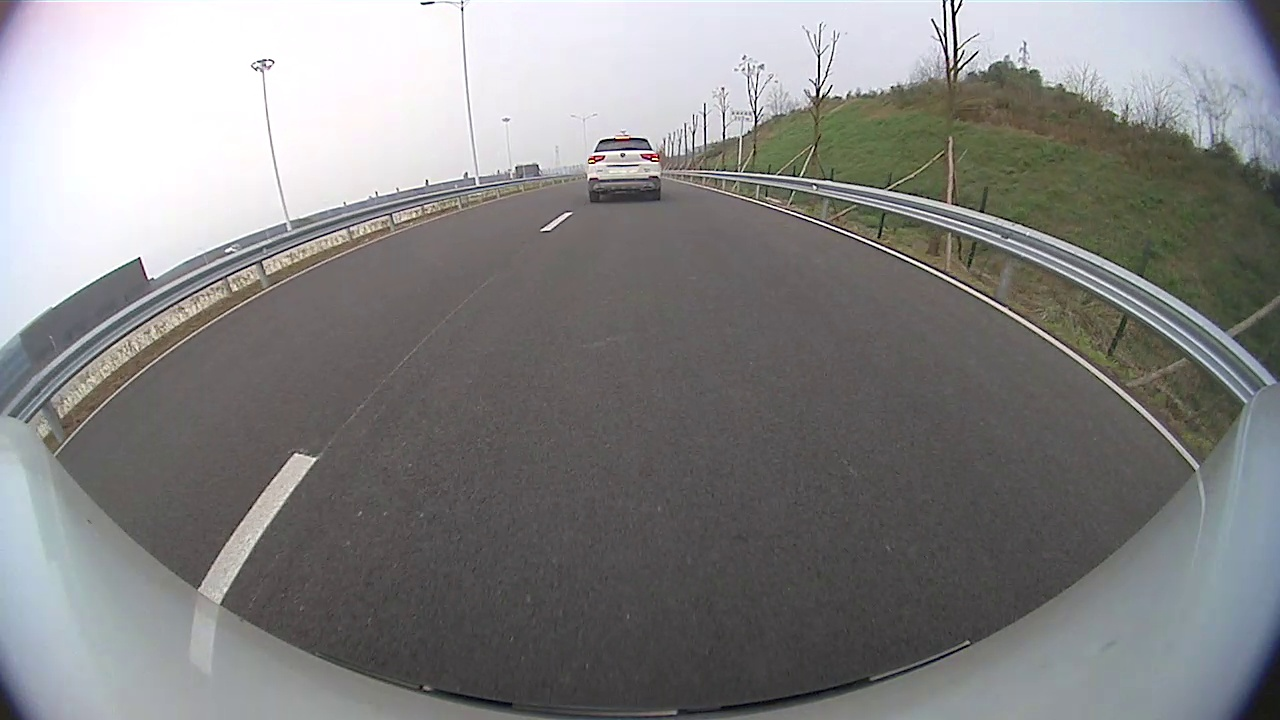car: (584, 132, 665, 206)
